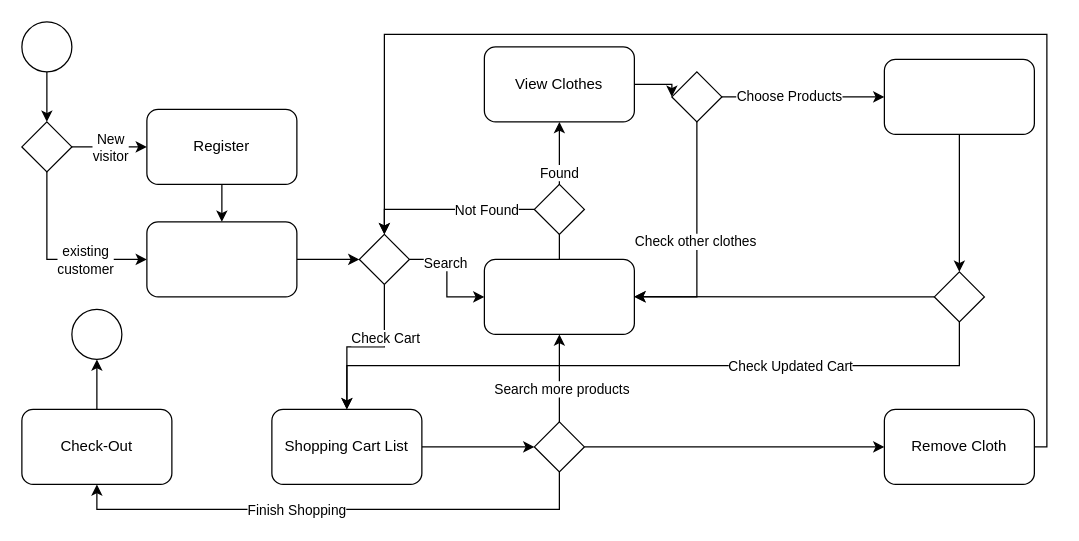
This 1079x541 diagram has some shape labels left out. The shapes that lost their labels are listed below. From the top down, each one's box as (x1, y1, x2, y2) in pixels, then its label:
(883, 58, 1034, 134): Add to Cart
(146, 221, 297, 297): Login
(483, 258, 634, 334): Search Product
